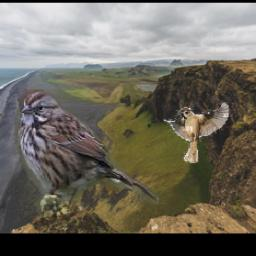Sparrow: (12, 89, 159, 217), (163, 102, 229, 163)
